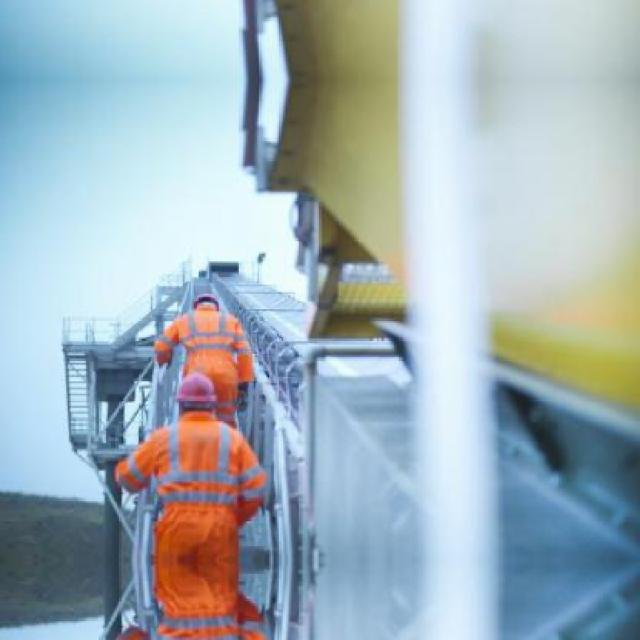con casco: (136, 362, 226, 456)
